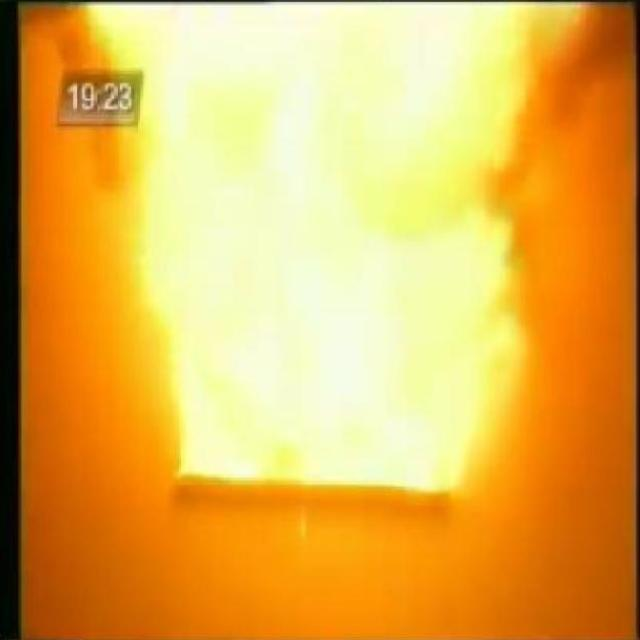smoke: (44, 4, 582, 528)
